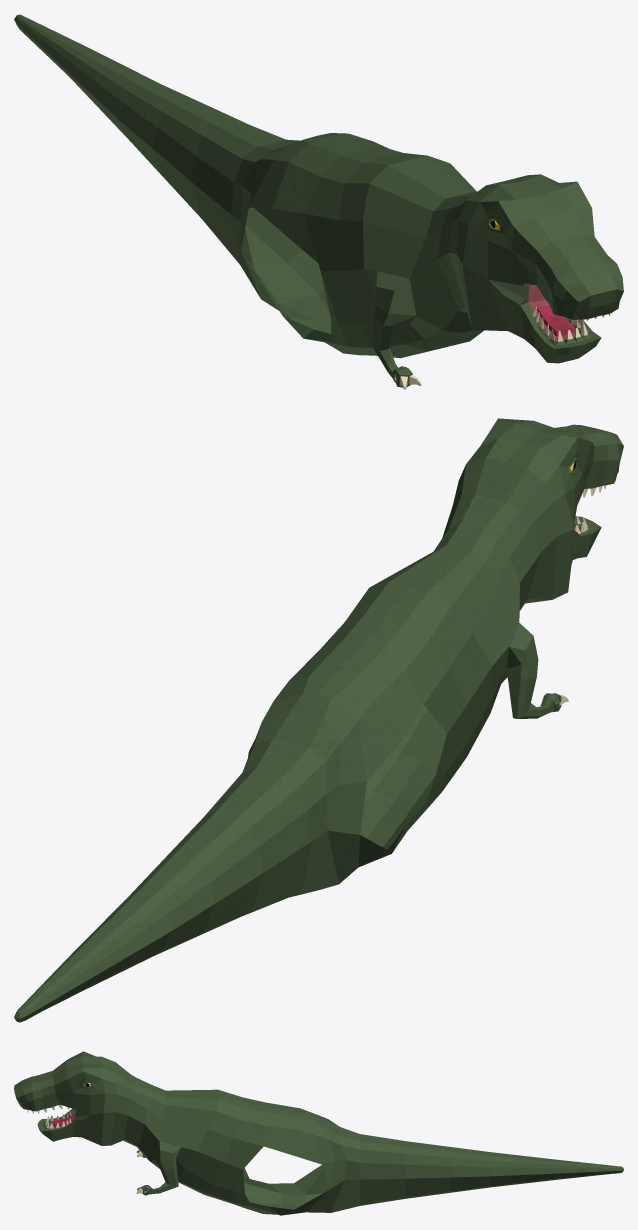
Rendered from T_RexCu.obj.
3 views of the same model, one above another, from view 1: azimuth 30°, elevation 25°; view 2: azimuth 150°, elevation 25°; view 3: azimuth 270°, elevation 25° (orthographic). The views are drawn at different scales.
Visible parts, largest first — view 1: T_Rex:Mesh; view 2: T_Rex:Mesh; view 3: T_Rex:Mesh.
Part boxes in pixels (x1=…): T_Rex:Mesh: x1=14, y1=14, x2=623, y2=389; T_Rex:Mesh: x1=14, y1=418, x2=623, y2=1022; T_Rex:Mesh: x1=14, y1=1051, x2=623, y2=1215.
Size of the model in its own units: 2.79 by 4.57 by 17.04.
1 material, 1 textured.
